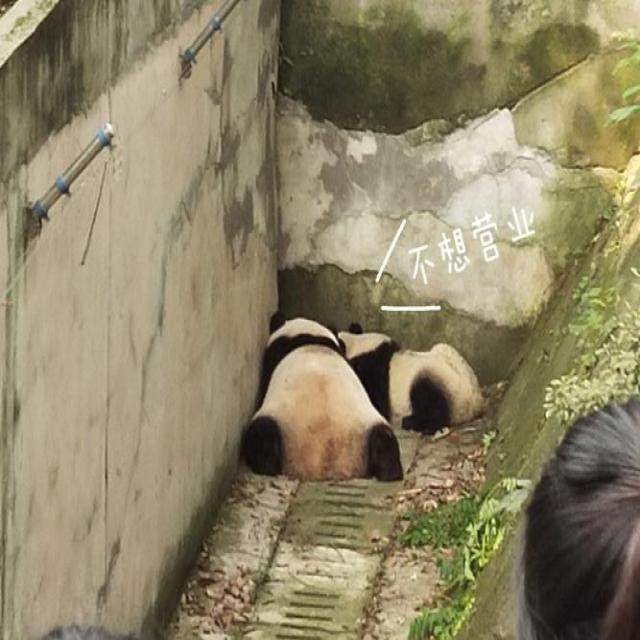panda: (239, 299, 487, 485)
